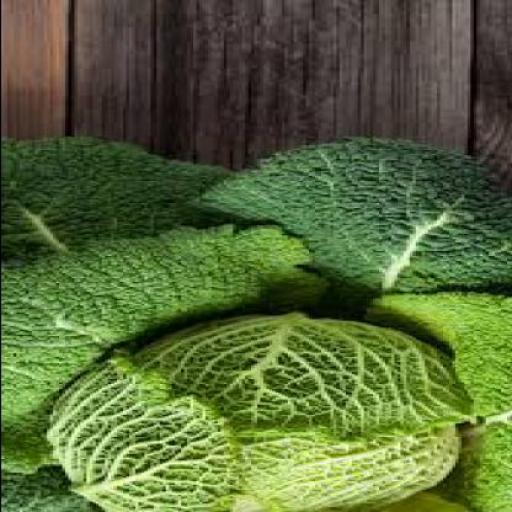biodegradable: (2, 133, 511, 511), (52, 312, 475, 510)
